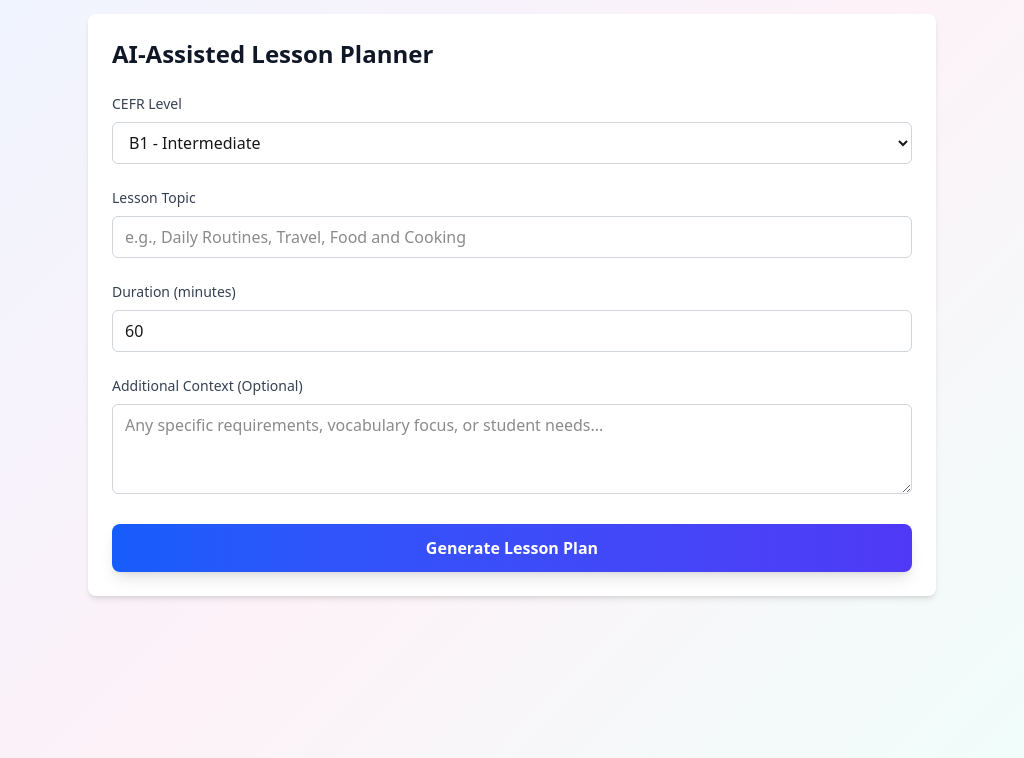
Scenario: LessonPlannerForm Component › should display generated lesson plan
This screenshot has width=1024, height=758.
Type "Food and Cooking" into the field labelled "Lesson Topic" at (512, 237), box [112,216,912,258]
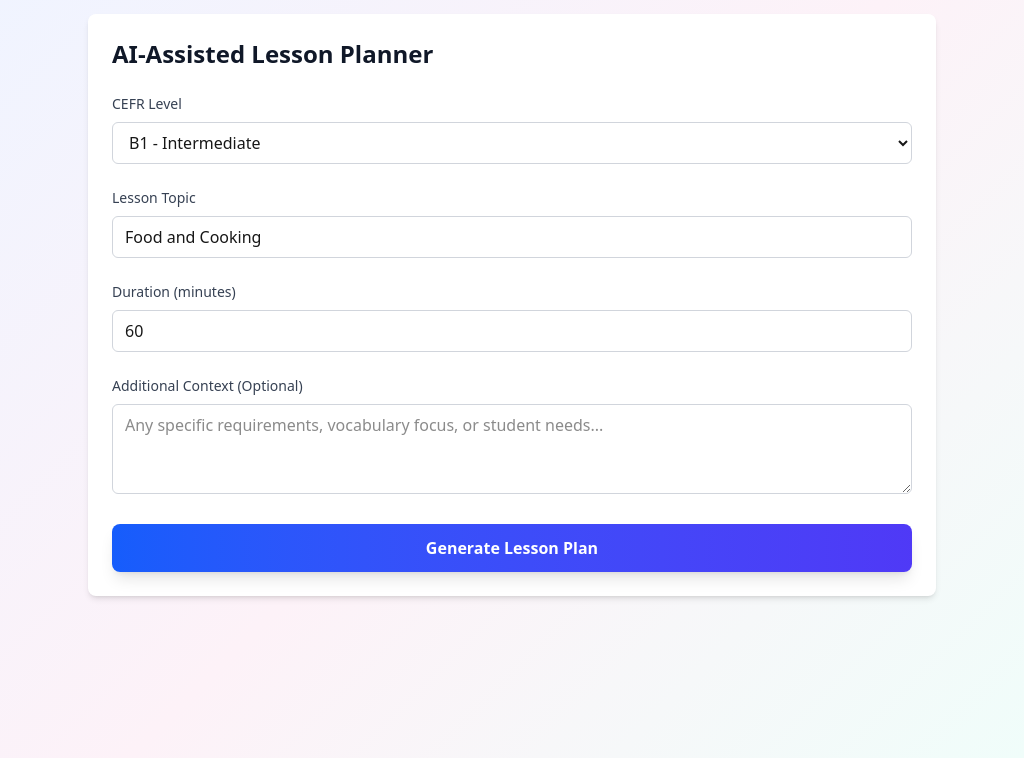
Click the button "Generate Lesson Plan" at (512, 548), box [112,524,912,572]
(page scrolled)
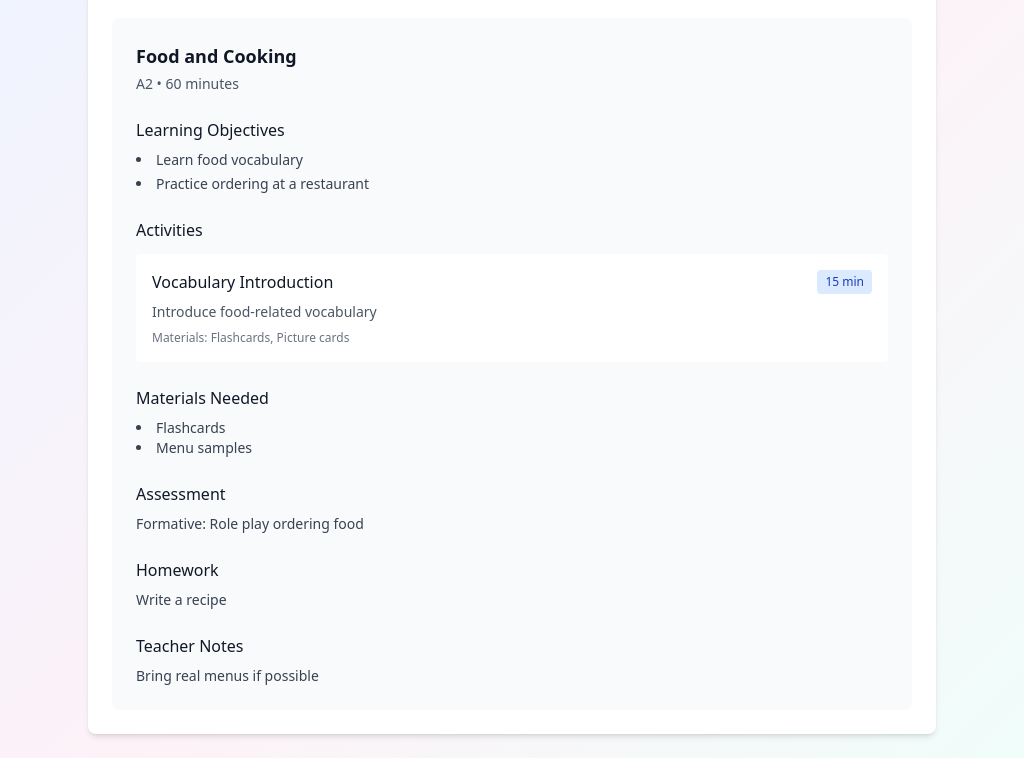
Result: the heading "Food and Cooking" is shown at [136,44,297,68]
Result: the text "A2 • 60 minutes" is shown at [136,74,239,93]
Result: the list item "Learn food vocabulary" is shown at [156,150,303,169]
